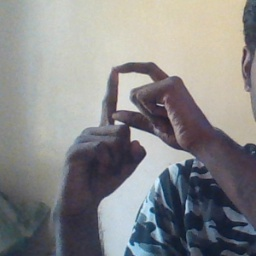D: (87, 57, 189, 154)
